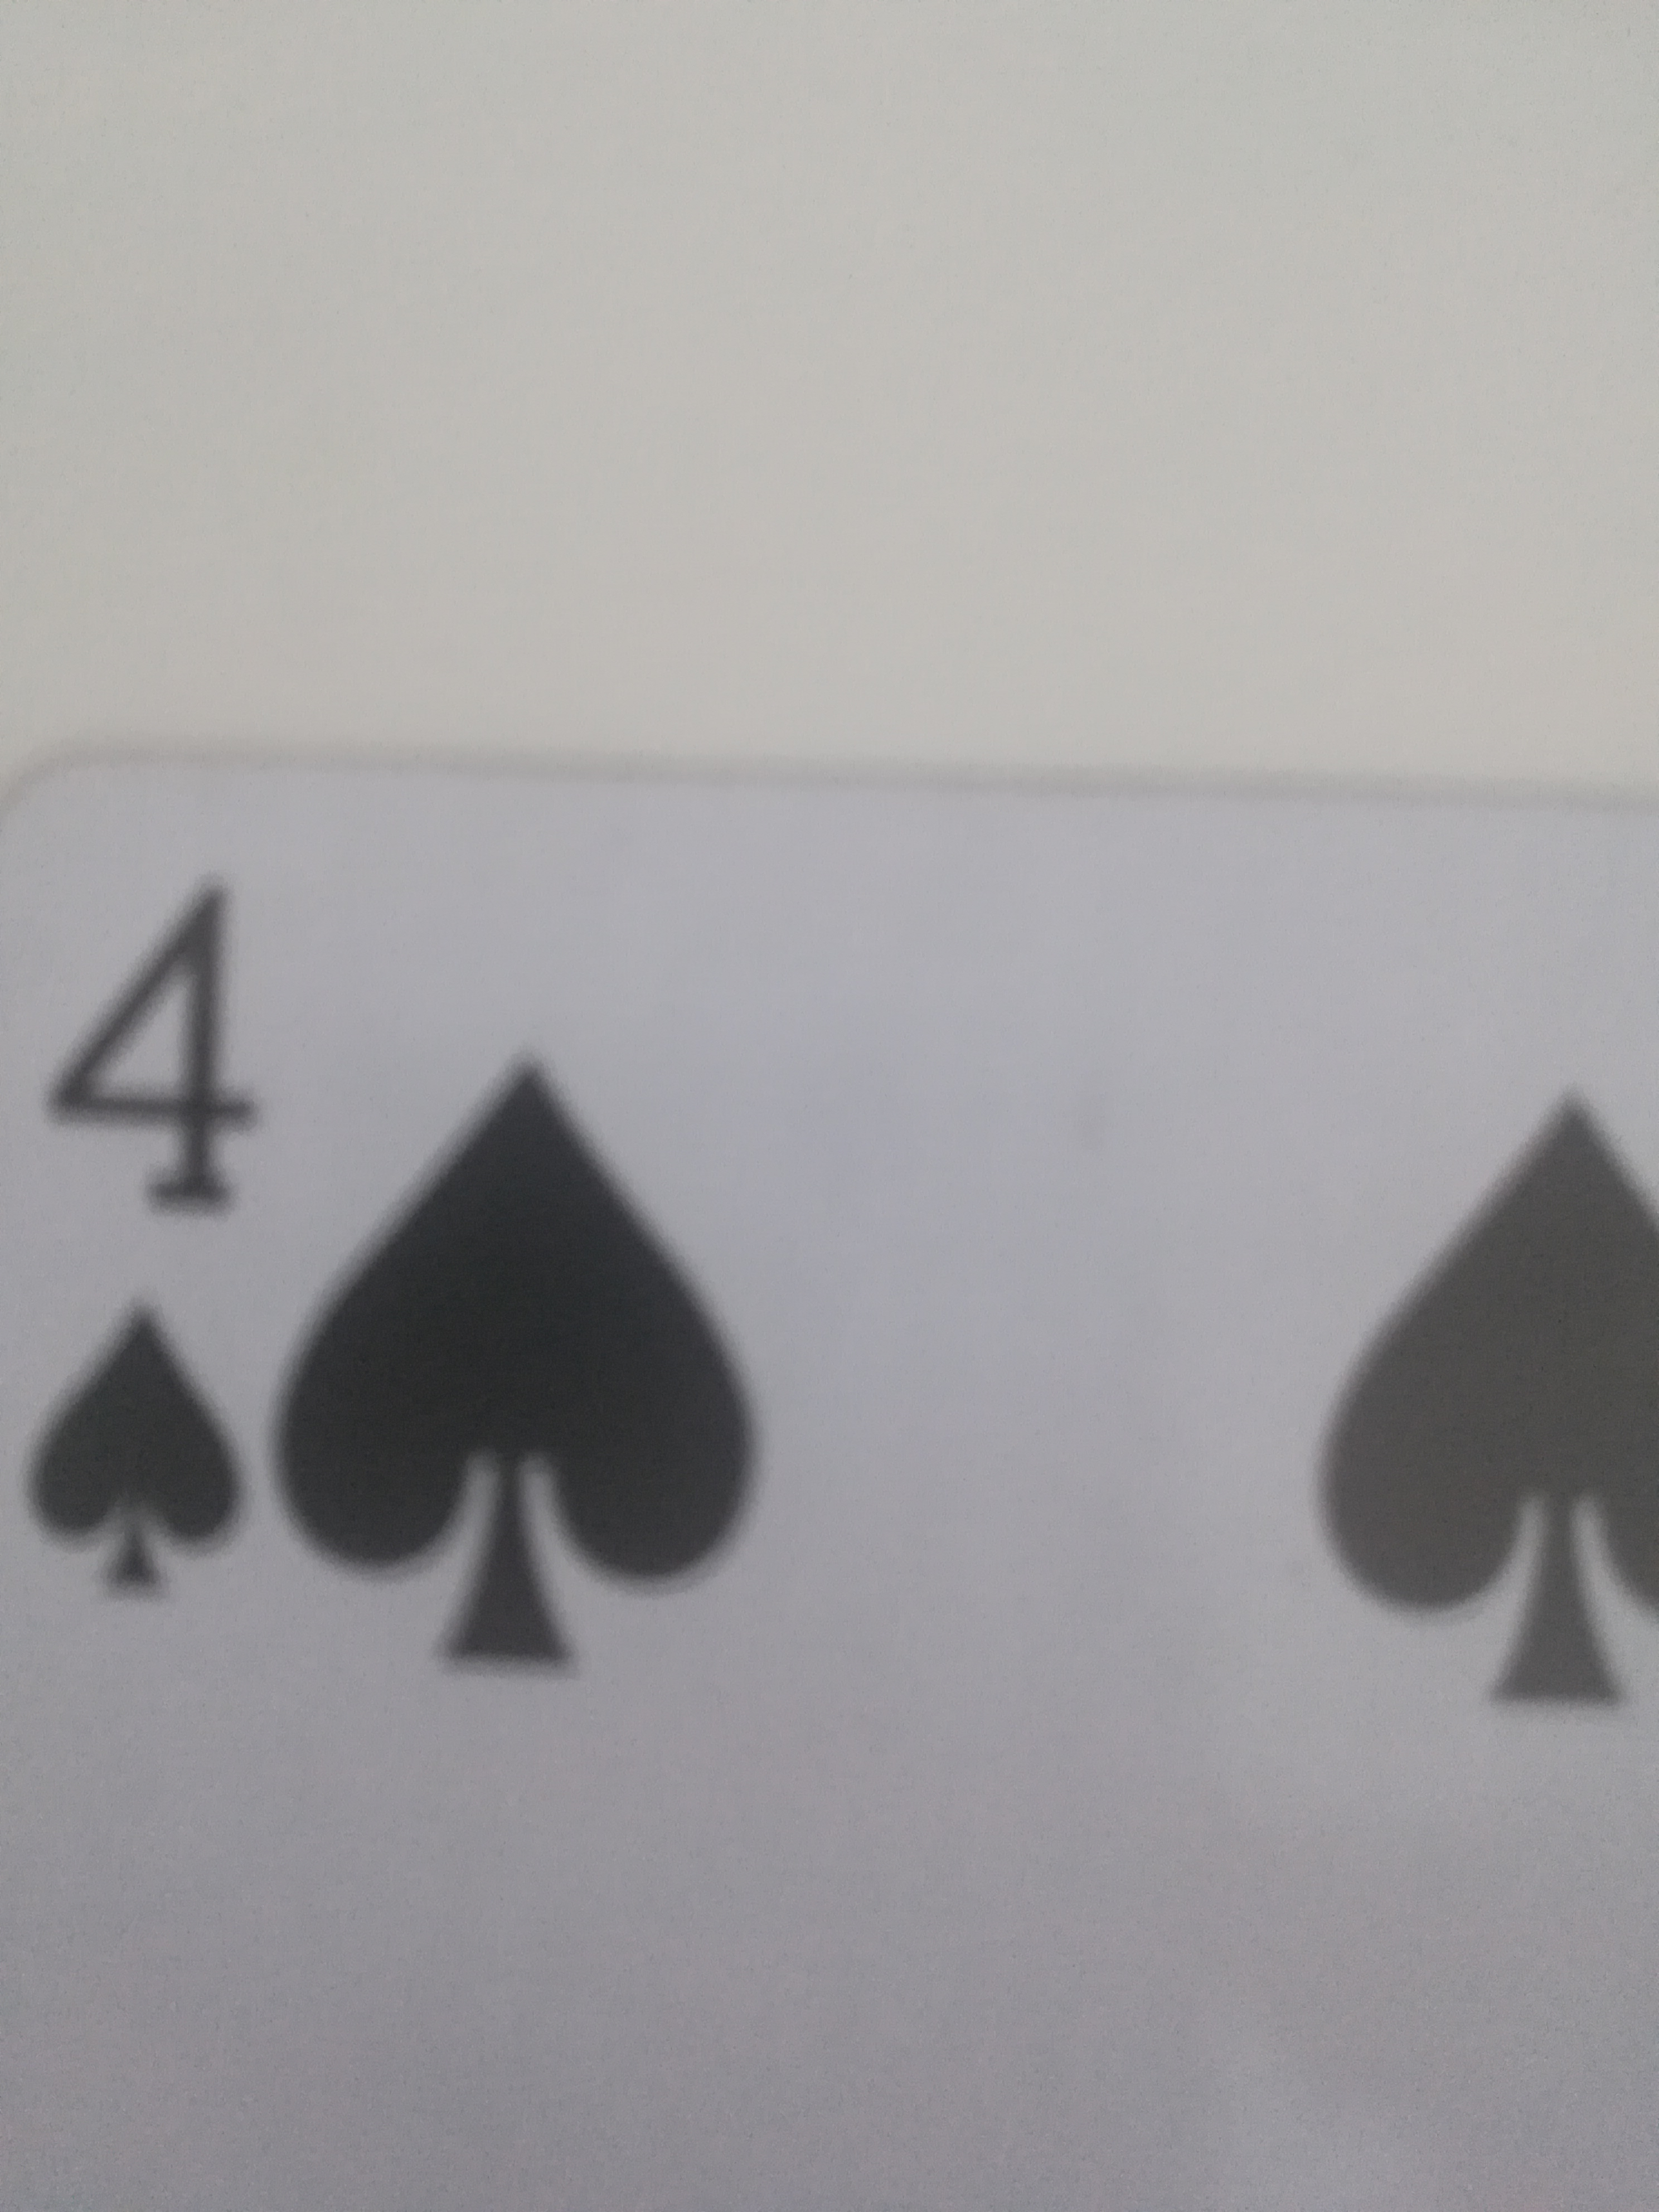4S: (10, 745, 1652, 2212)
